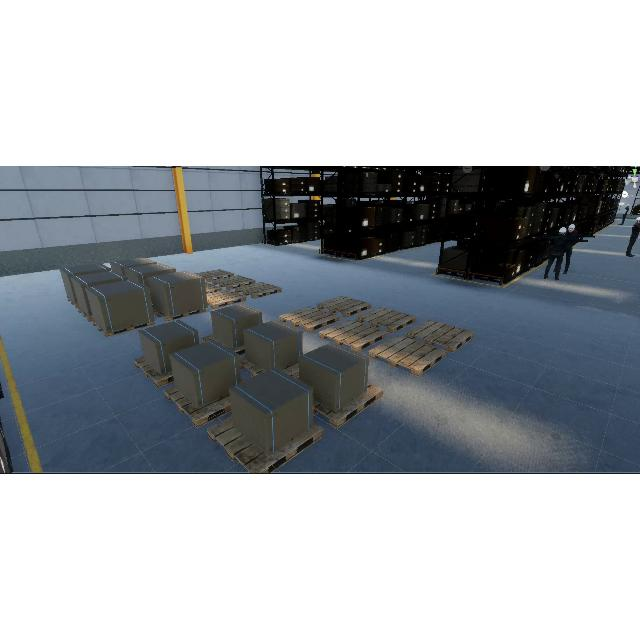wooden_pallet: (207, 416, 324, 474), (368, 335, 446, 378), (313, 380, 383, 427), (163, 384, 231, 428), (406, 319, 475, 353), (318, 319, 386, 352), (279, 305, 340, 333), (356, 306, 416, 334), (134, 355, 174, 388), (317, 295, 371, 318), (91, 319, 155, 337), (235, 281, 282, 300), (206, 288, 246, 307), (154, 307, 206, 321), (212, 275, 256, 290), (194, 268, 235, 282), (205, 282, 222, 294)
